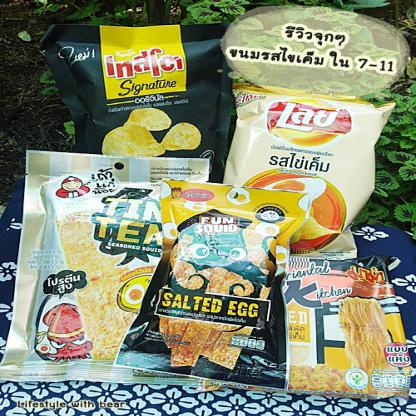potatochip: (36, 20, 237, 224), (216, 84, 393, 266)
